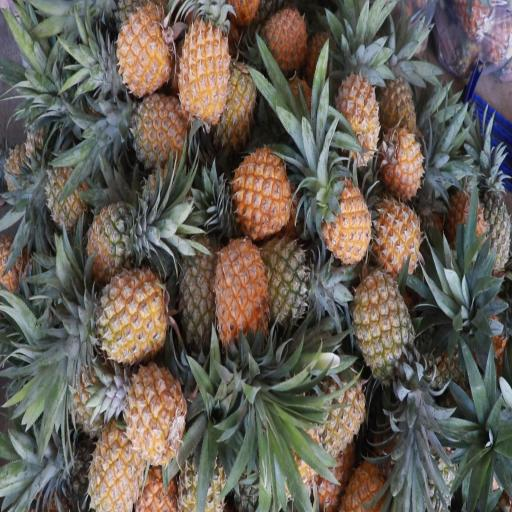------------------------------: (346, 262, 420, 386), (83, 198, 146, 288)
Pineapple - v8 v1: (84, 264, 170, 365), (210, 211, 267, 352), (120, 347, 189, 460), (176, 0, 232, 128), (119, 79, 192, 173), (83, 396, 143, 509), (226, 147, 292, 243), (332, 51, 382, 175), (316, 155, 372, 261), (311, 356, 371, 452), (114, 0, 169, 96), (260, 0, 313, 82), (372, 196, 423, 278), (376, 118, 426, 201)
